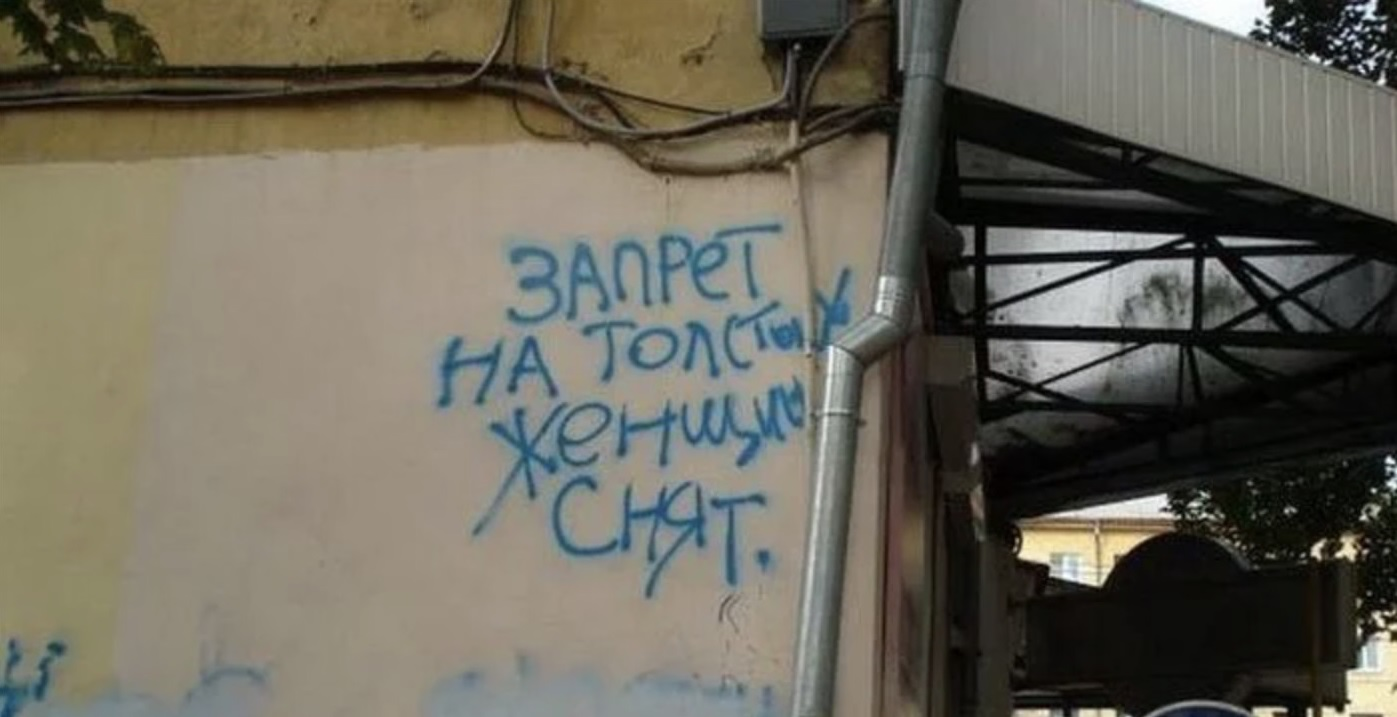graphite: (432, 226, 868, 632)
